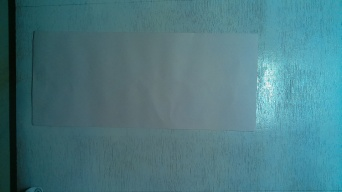l: (31, 28, 259, 133)
